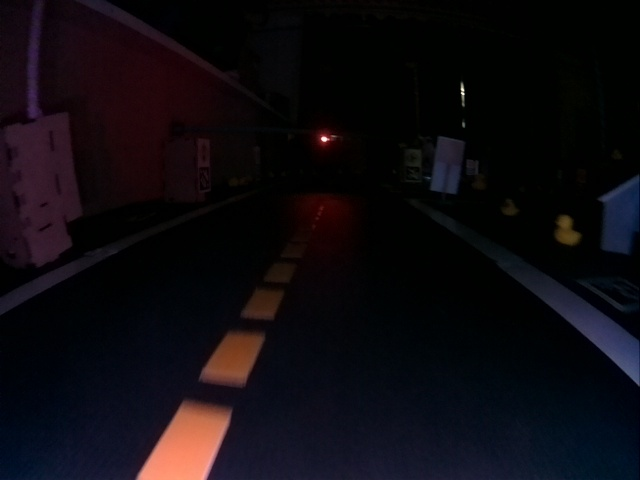Duckie: (554, 215, 579, 246), (502, 199, 517, 214), (472, 175, 487, 189)
QR code: (579, 276, 638, 311), (198, 168, 209, 190), (407, 166, 420, 181)
Traffic light: (318, 130, 331, 145)
